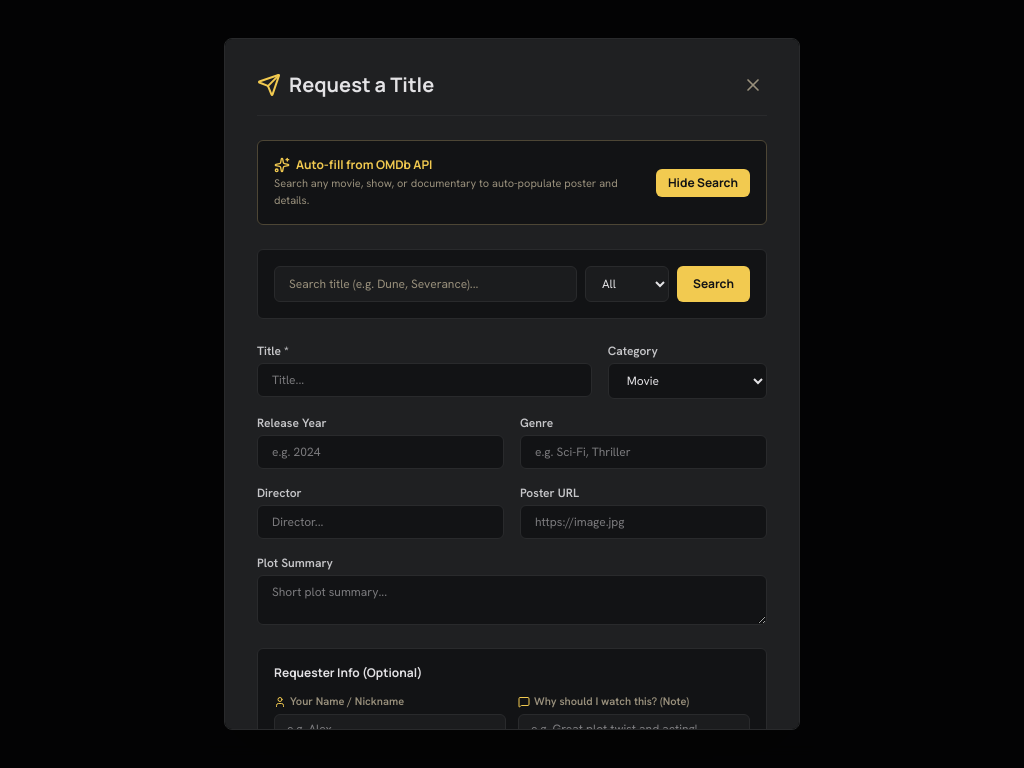
it: RequestMediaModal › handles series and documentary type mapping correctly
Type "Planet Earth" into the field with placeholder "Search title (e.g. Dune, Severance)..." at (426, 284), box [274, 266, 577, 302]
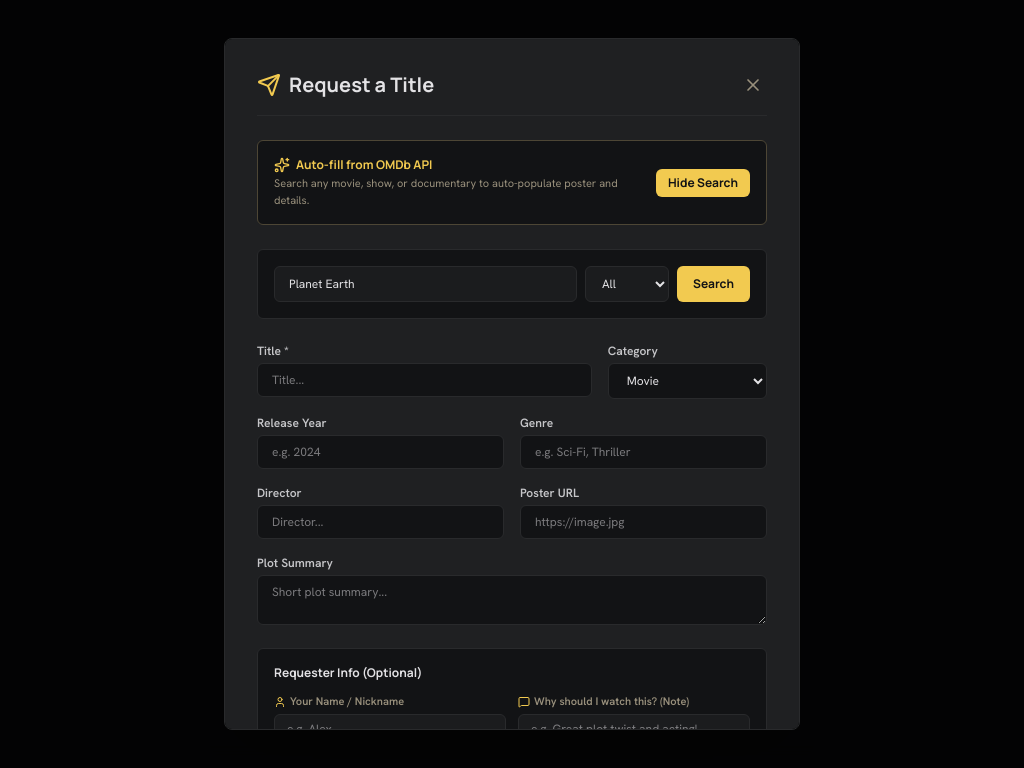
Select "Series" in the 1st dropdown at (627, 284), box [585, 266, 669, 302]
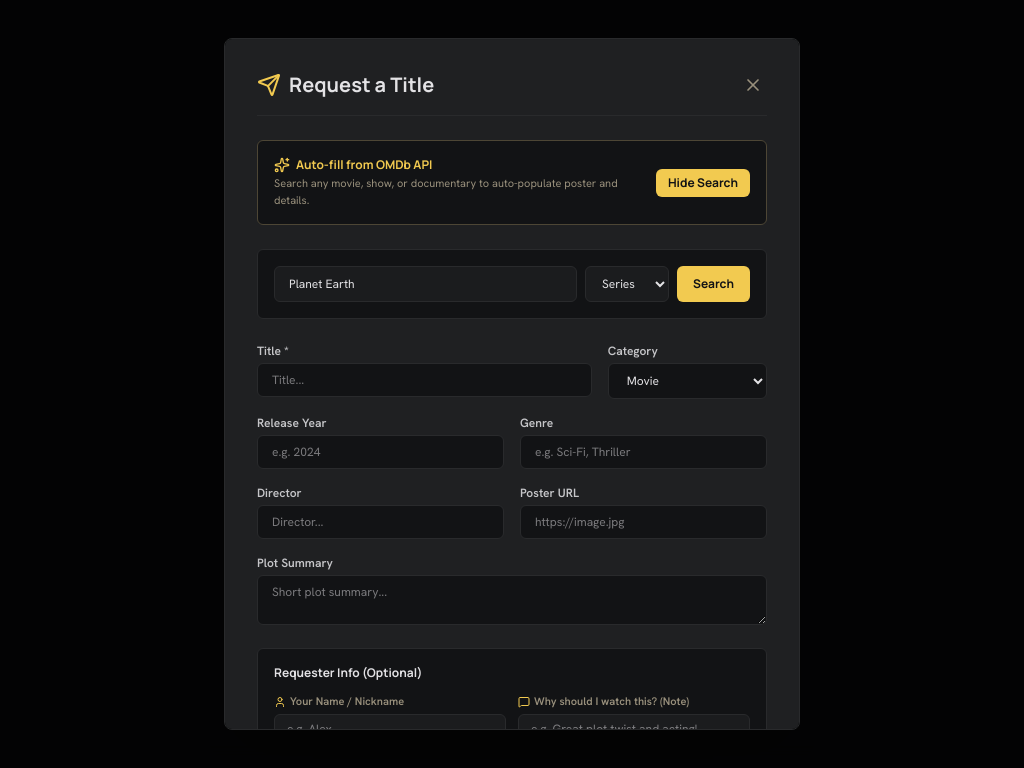
Click the button "Search" at (714, 284), box [677, 266, 750, 302]
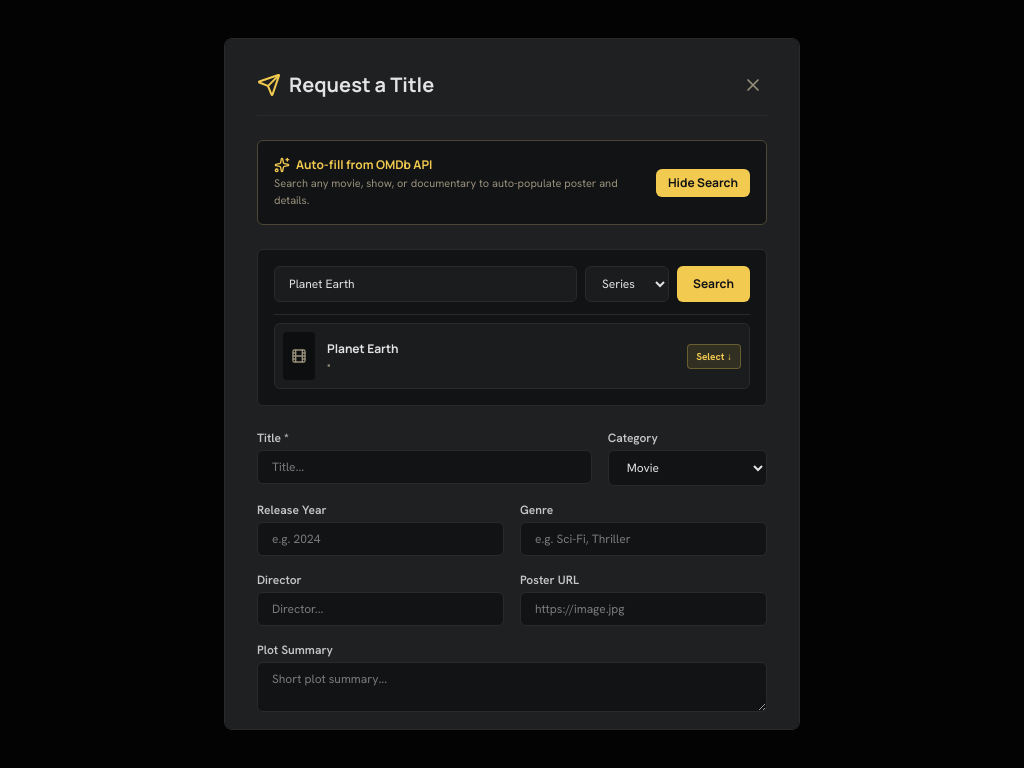
Result: the heading "Planet Earth" is shown
Click the heading "Planet Earth" at (363, 348), box [327, 340, 399, 357]
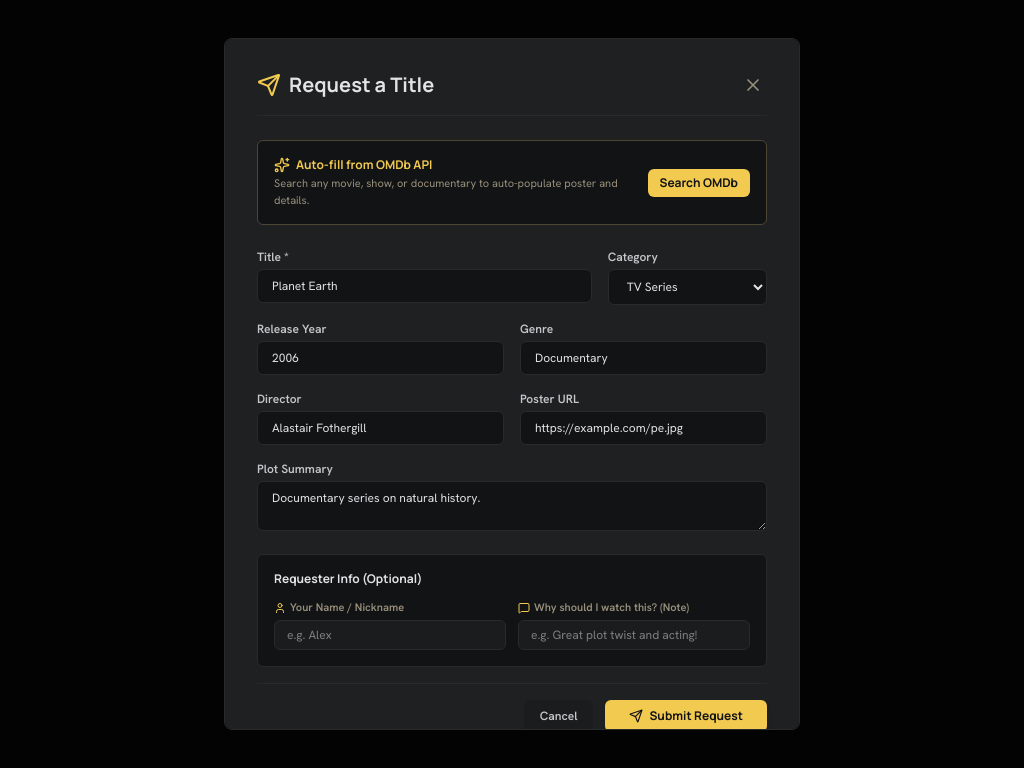
Result: the dropdown shows "TV Series" at [608, 269, 767, 305]
